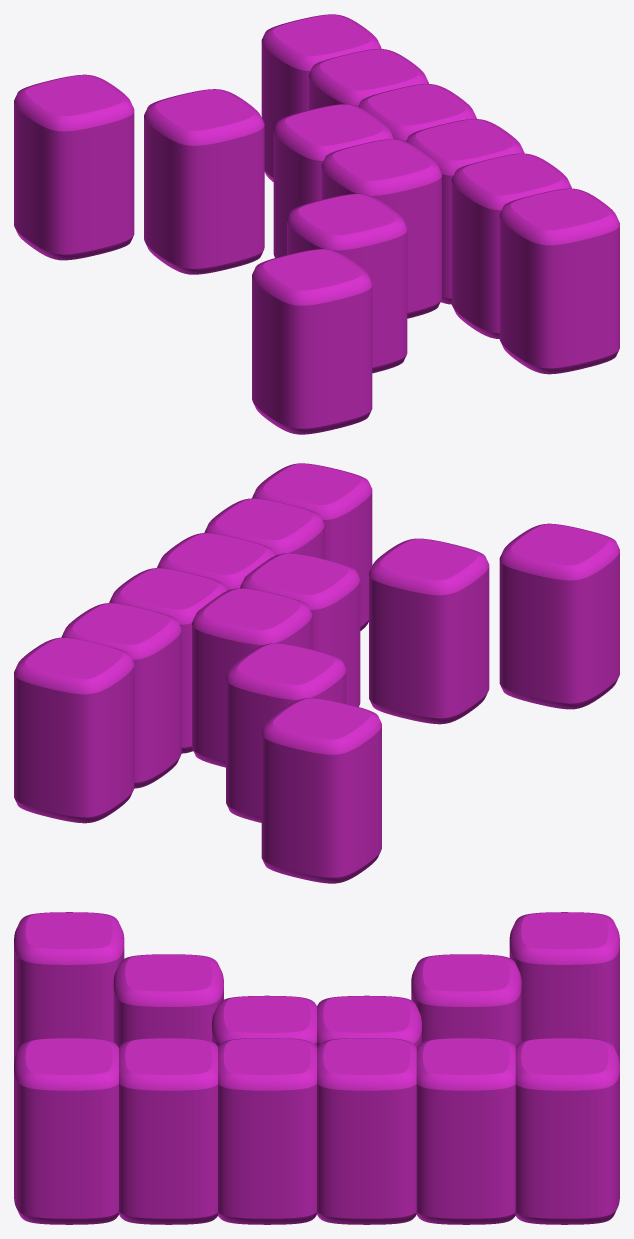
Rendered from Letter_K.fbx.
3 renders of one model, top to bottom at view 1: azimuth 30°, elevation 25°; view 2: azimuth 150°, elevation 25°; view 3: azimuth 270°, elevation 25°, orthographic. The views are drawn at different scales.
Visible parts, largest first — view 1: Letter_K; view 2: Letter_K; view 3: Letter_K.
Part boxes in pixels (x1,y1,x2,y2): Letter_K: (14,14,619,434); Letter_K: (14,463,619,883); Letter_K: (14,912,619,1224).
Bounding box in the file's own units: 0.3465 × 0.14 × 0.5146.
